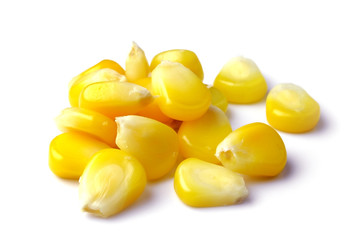corn: (78, 147, 149, 217), (114, 116, 180, 181), (173, 156, 250, 208), (216, 123, 287, 177), (151, 60, 210, 119), (266, 82, 321, 132), (77, 81, 157, 115)
